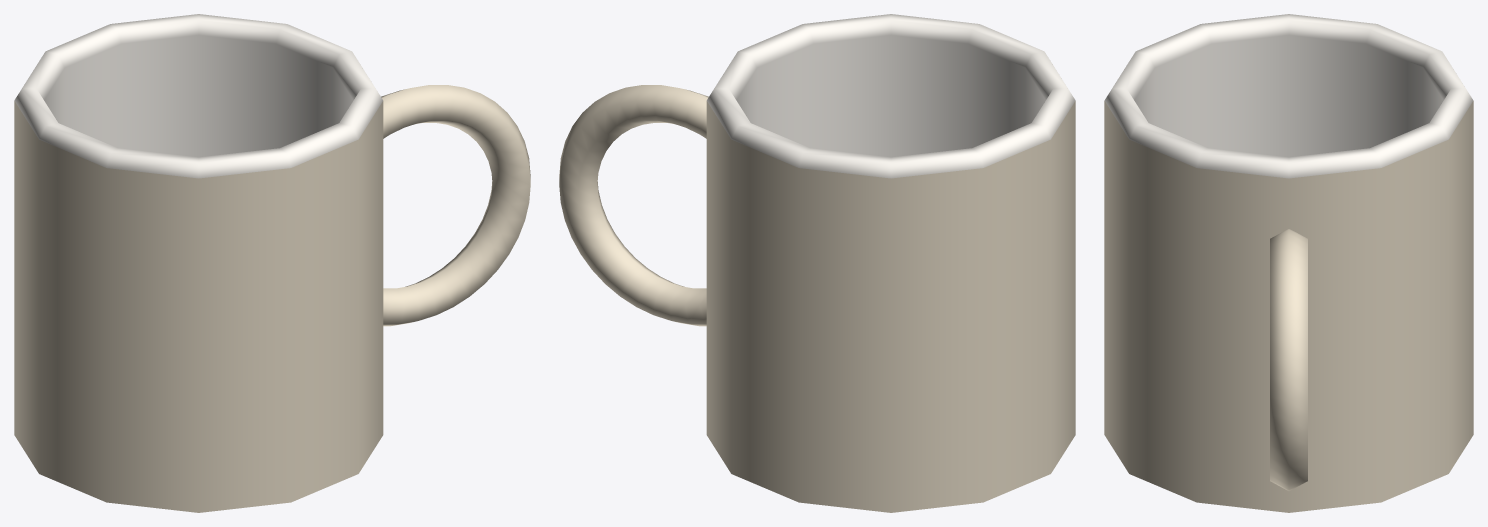
The model's file is mug.glb.
3 views of the same model, side by side, from view 1: azimuth 30°, elevation 25°; view 2: azimuth 150°, elevation 25°; view 3: azimuth 270°, elevation 25° (orthographic).
Parts seen in each view (by area): view 1: mug.material0, mug.material1; view 2: mug.material0, mug.material1; view 3: mug.material0, mug.material1.
Part boxes in pixels (x1=…): mug.material0: x1=14, y1=85, x2=530, y2=512; mug.material1: x1=14, y1=14, x2=383, y2=178; mug.material0: x1=559, y1=85, x2=1075, y2=512; mug.material1: x1=706, y1=14, x2=1075, y2=178; mug.material0: x1=1104, y1=101, x2=1473, y2=512; mug.material1: x1=1104, y1=14, x2=1473, y2=178.
Size of the model in its own units: 0.3615 by 0.2432 by 0.235.
